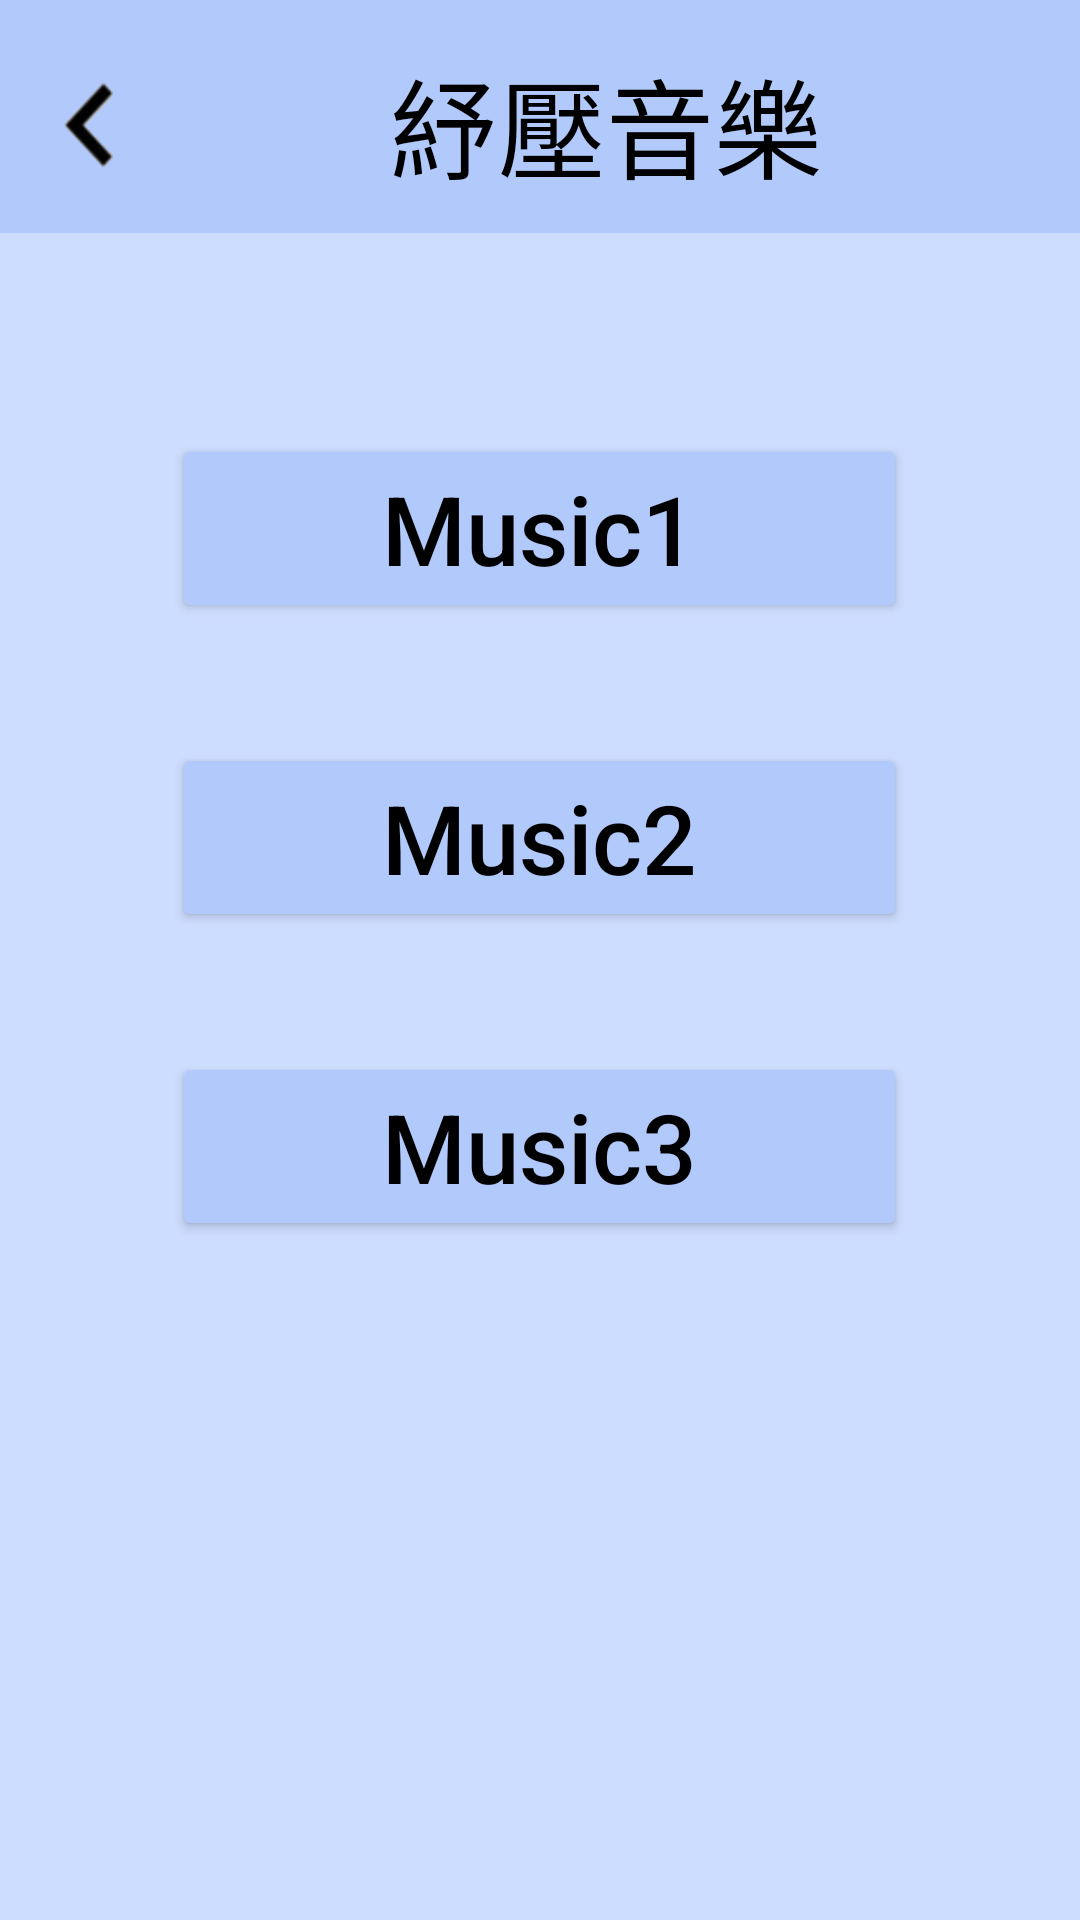

Where icons sit on this 1080x1920 app screen, as Rect(x1, y1, x2, y2):
back arrow: Rect(64, 83, 113, 167)
